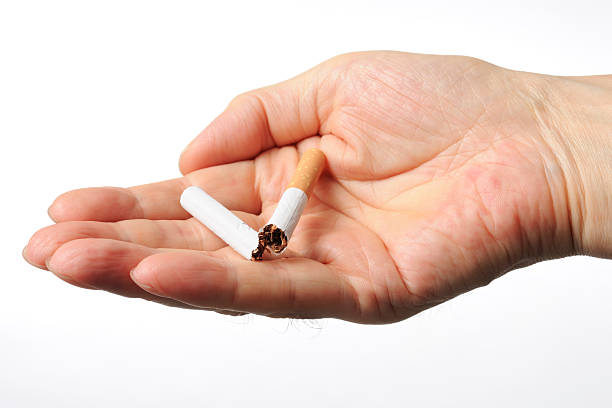cigarette: (258, 148, 327, 256), (180, 185, 266, 262)
